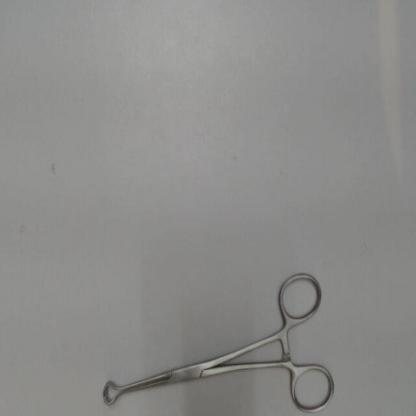Babcock Tissue Forceps: (100, 265, 338, 415)
